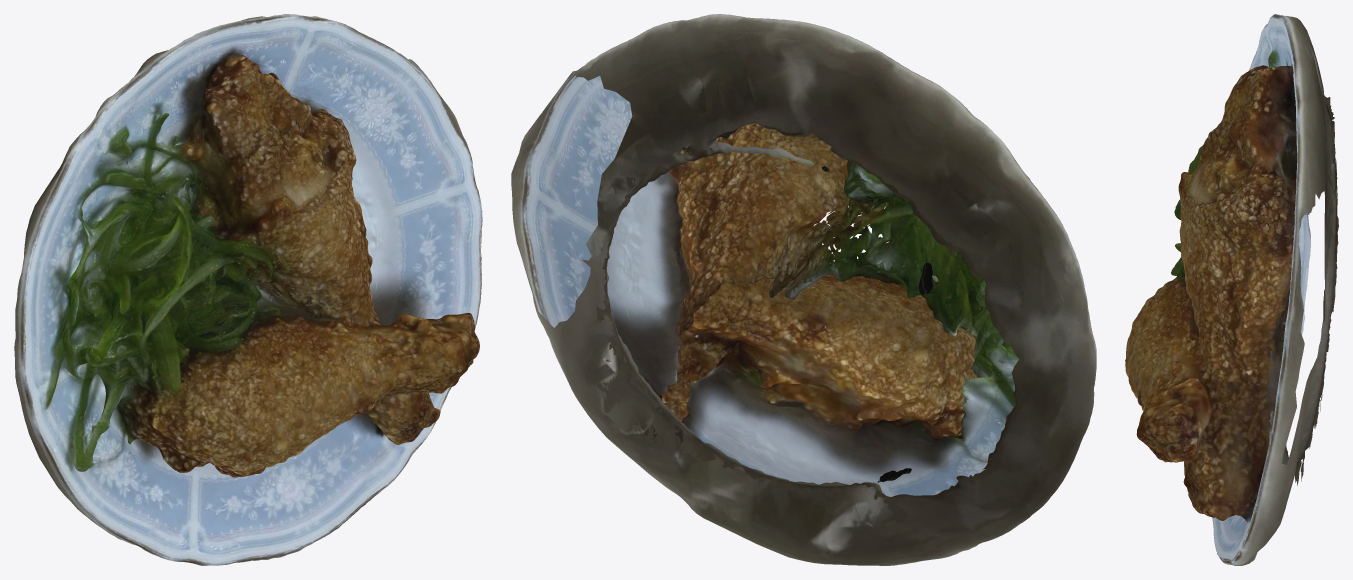
Rendered from oven-grilled-chicken.glb.
3 renders of one model, left to right at view 1: azimuth 30°, elevation 25°; view 2: azimuth 150°, elevation 25°; view 3: azimuth 270°, elevation 25°, orthographic. The views are drawn at different scales.
Parts seen in each view (by area): view 1: Model; view 2: Model; view 3: Model.
Boxes of the visible parts, x1,y1,x2,y2 form: Model: (14, 14, 482, 565); Model: (511, 14, 1096, 565); Model: (1125, 14, 1338, 565).
Bounding box in the file's own units: 0.3349 × 0.3344 × 0.129.
Materials: 1 (1 with a texture image).
